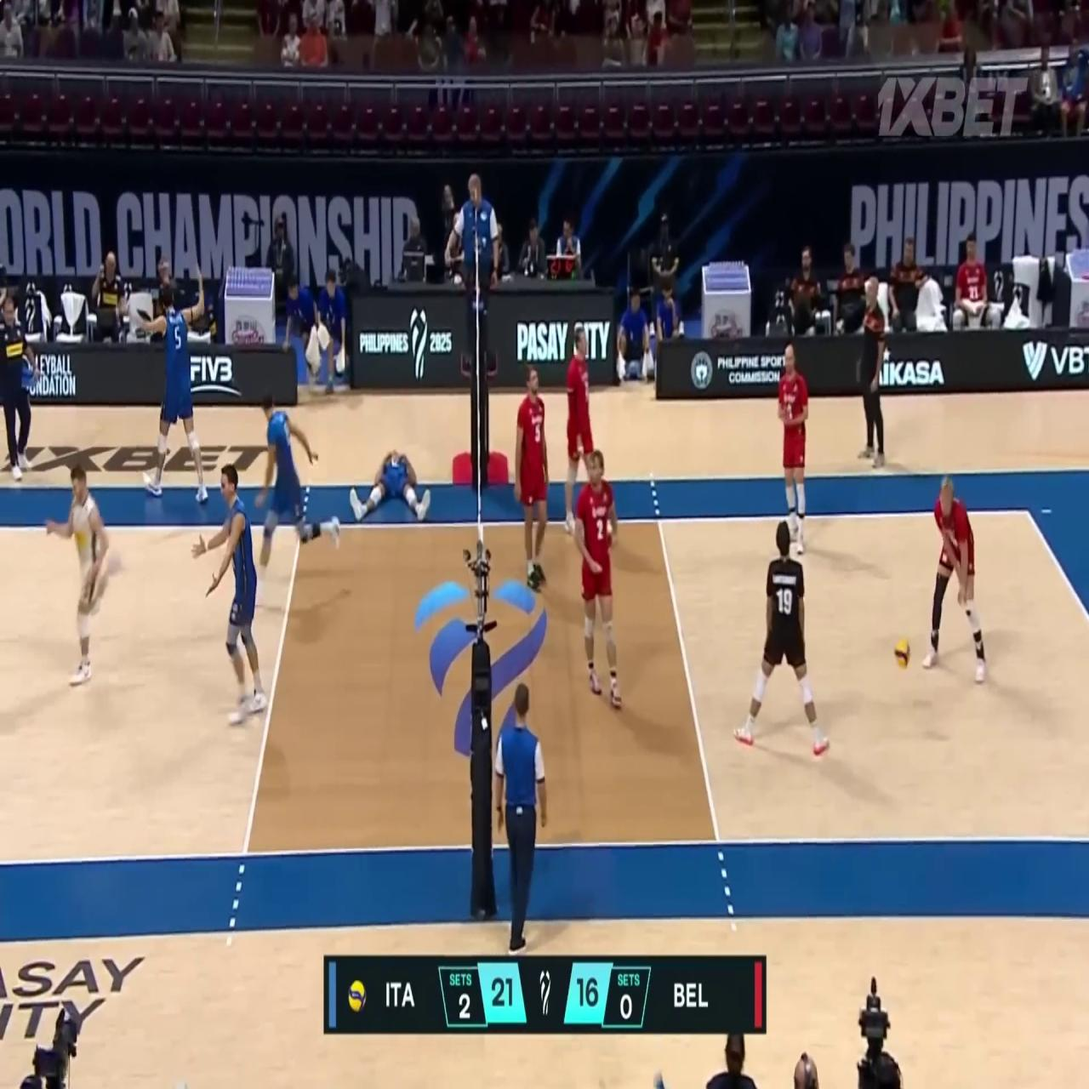ball: (894, 636, 911, 669)
